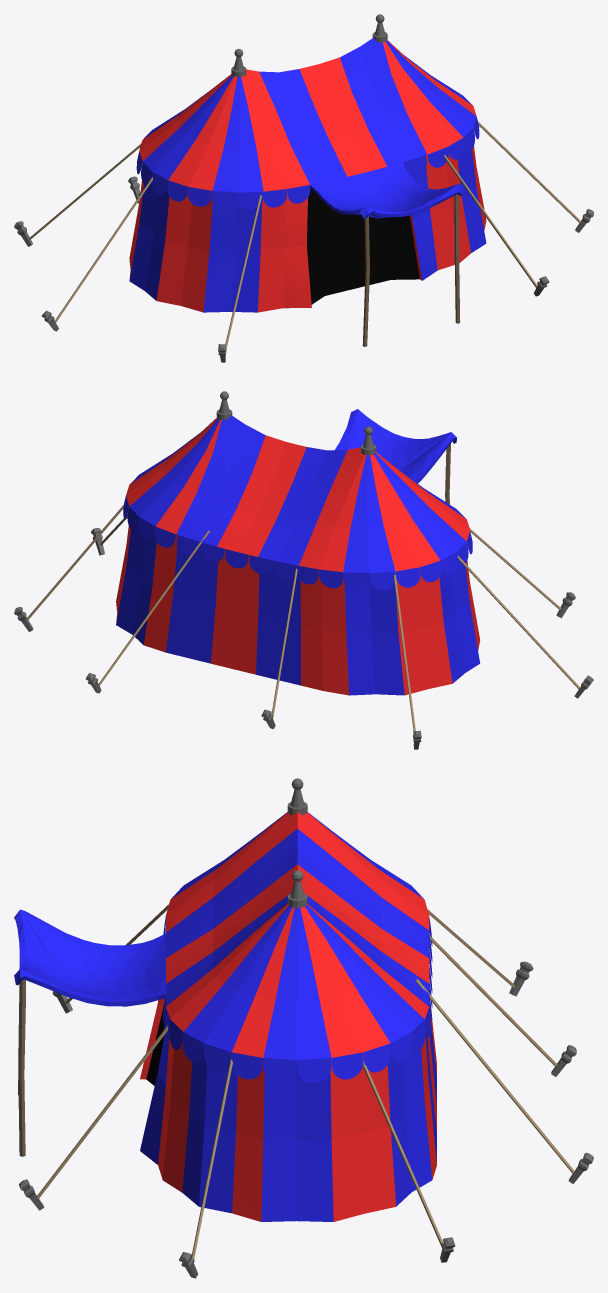
Rendered from tent_d_02.FBX.
3 renders of one model, top to bottom at view 1: azimuth 30°, elevation 25°; view 2: azimuth 150°, elevation 25°; view 3: azimuth 270°, elevation 25°, orthographic. The views are drawn at different scales.
Visible parts, largest first — view 1: tent_d_02; view 2: tent_d_02; view 3: tent_d_02.
Boxes of the visible parts, x1,y1,x2,y2 form: tent_d_02: (14,14,593,362); tent_d_02: (14,391,593,749); tent_d_02: (14,778,593,1278).
Size of the model in its own units: 11.01 by 4.6 by 7.96.
